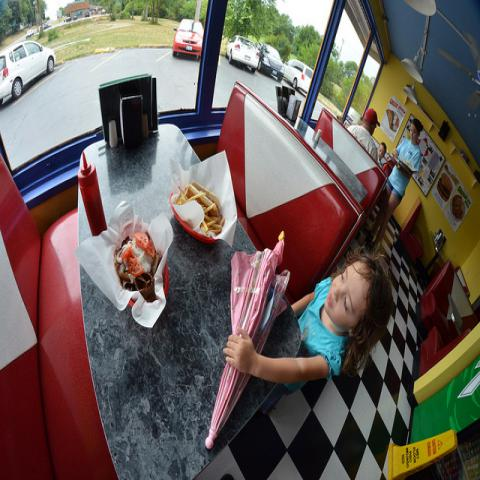car: (0, 41, 56, 104), (226, 35, 260, 74), (172, 20, 203, 60), (257, 42, 285, 82), (283, 59, 314, 94), (344, 106, 361, 128), (26, 28, 34, 39), (101, 6, 108, 14), (66, 16, 72, 22), (85, 12, 90, 18)
